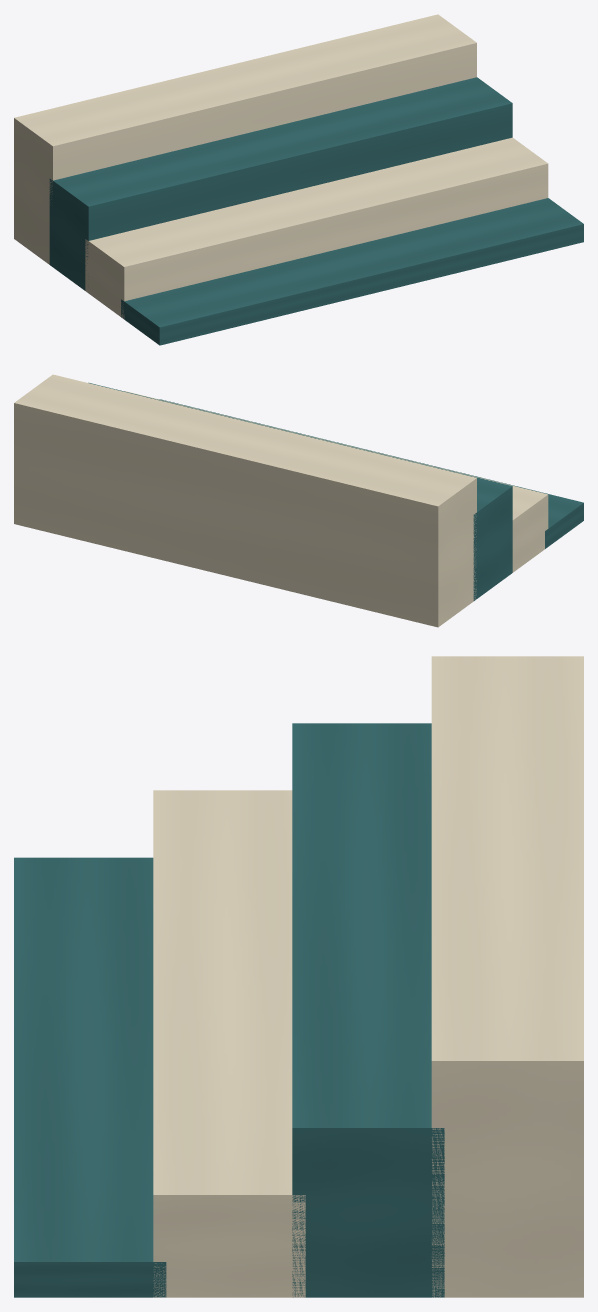
File: atlas100-s031-a10.lod2.glb
The picture shows the model from 3 angles, top to bottom: view 1: azimuth 30°, elevation 25°; view 2: azimuth 150°, elevation 25°; view 3: azimuth 270°, elevation 25°; orthographic projection. The views are drawn at different scales.
Visible parts, largest first — view 1: atlas100-s031-a10:part-003, atlas100-s031-a10:part-002, atlas100-s031-a10:part-001, atlas100-s031-a10:part-000; view 2: atlas100-s031-a10:part-003, atlas100-s031-a10:part-002, atlas100-s031-a10:part-001, atlas100-s031-a10:part-000; view 3: atlas100-s031-a10:part-003, atlas100-s031-a10:part-002, atlas100-s031-a10:part-001, atlas100-s031-a10:part-000.
Part boxes in pixels (x1=…): atlas100-s031-a10:part-003: x1=14, y1=14, x2=476, y2=264; atlas100-s031-a10:part-002: x1=49, y1=77, x2=512, y2=290; atlas100-s031-a10:part-001: x1=85, y1=137, x2=548, y2=319; atlas100-s031-a10:part-000: x1=121, y1=198, x2=583, y2=345; atlas100-s031-a10:part-003: x1=14, y1=374, x2=476, y2=627; atlas100-s031-a10:part-002: x1=88, y1=382, x2=512, y2=600; atlas100-s031-a10:part-001: x1=124, y1=391, x2=548, y2=572; atlas100-s031-a10:part-000: x1=159, y1=399, x2=583, y2=548; atlas100-s031-a10:part-003: x1=431, y1=656, x2=583, y2=1297; atlas100-s031-a10:part-002: x1=292, y1=723, x2=444, y2=1297; atlas100-s031-a10:part-001: x1=153, y1=790, x2=305, y2=1297; atlas100-s031-a10:part-000: x1=14, y1=857, x2=166, y2=1297.
Size of the model in its own units: 2.2 by 0.6 by 1.31.
2 materials, 2 textured.
